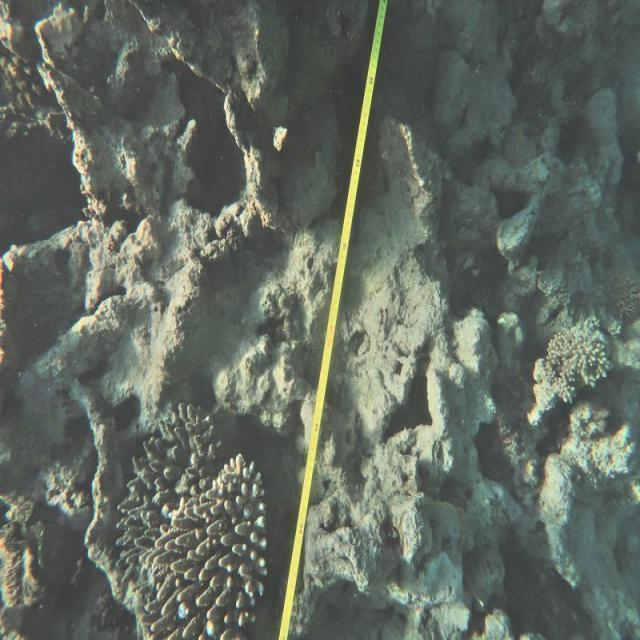Healthy Coral: (100, 428, 283, 640)
